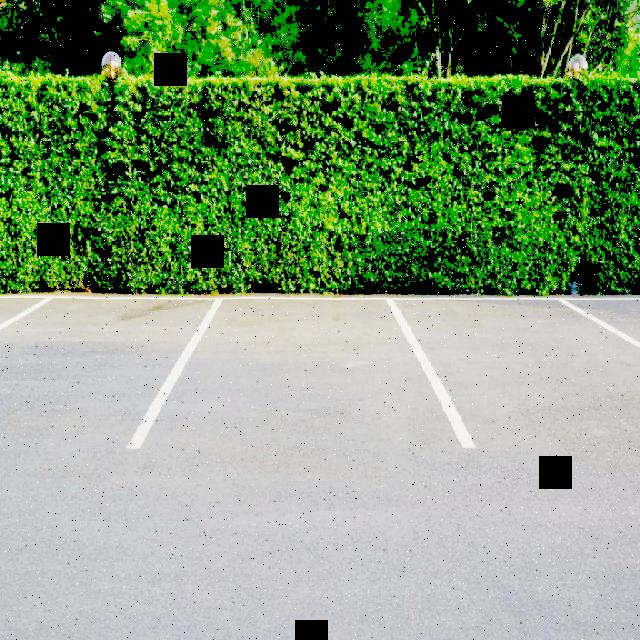empty: (117, 294, 490, 459), (384, 284, 640, 472), (4, 293, 231, 464)
